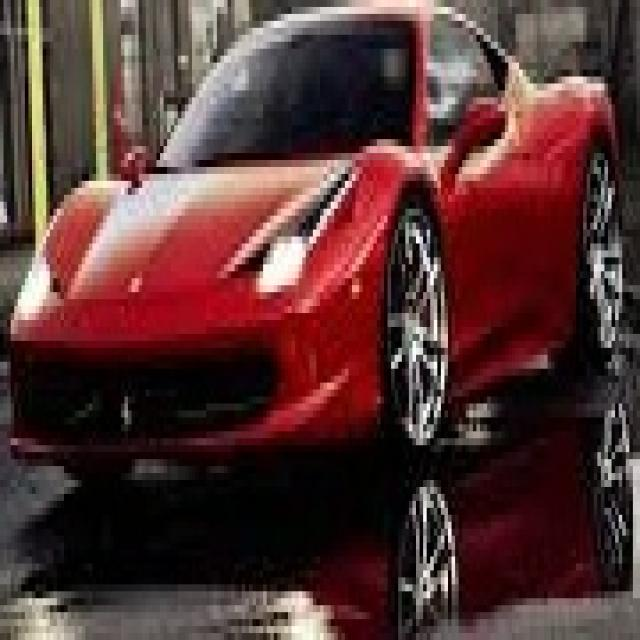maroon: (6, 6, 624, 474)
